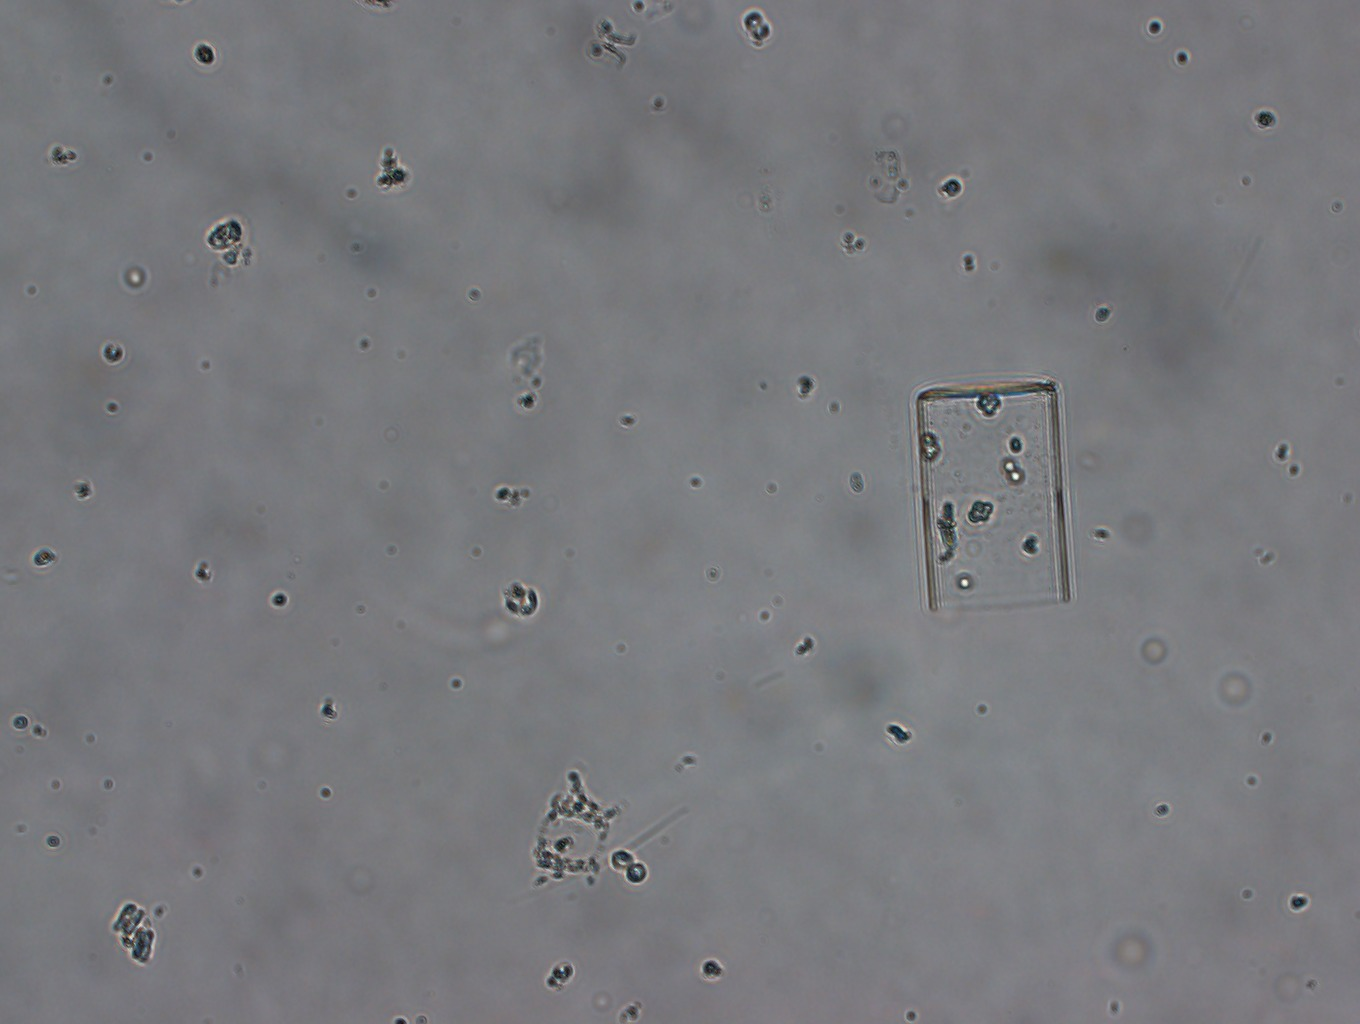guinardia flaccida: (913, 378, 1070, 614)
